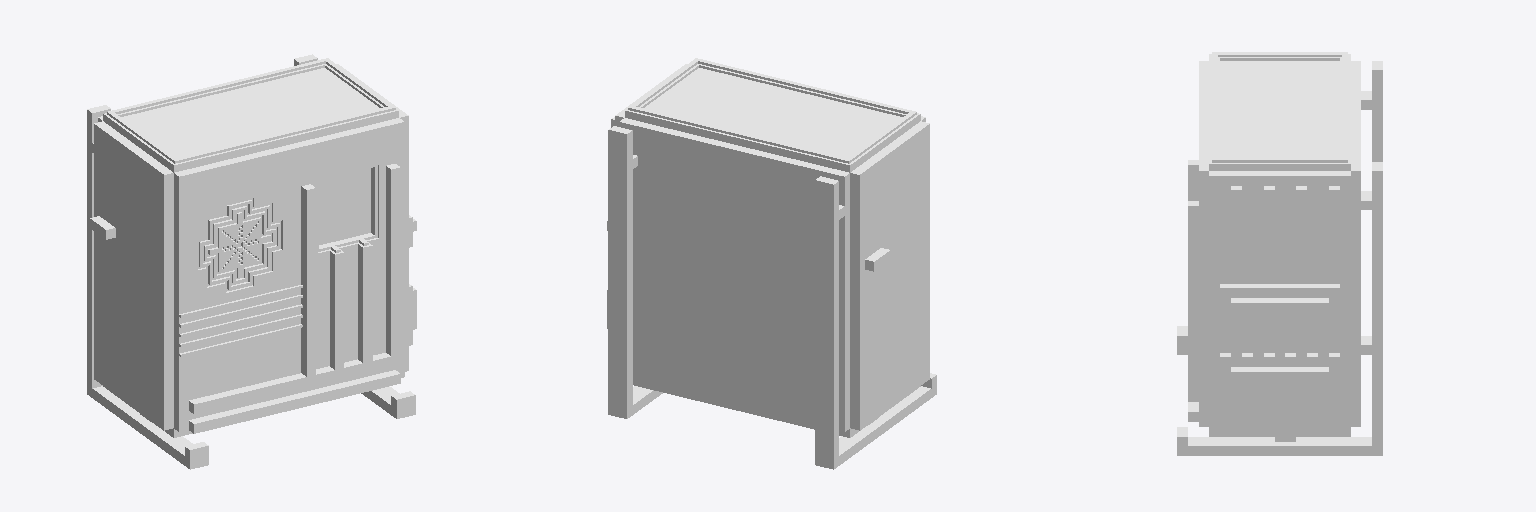
The model's file is air_conditioning-2-lod1.obj.
3 renders of one model, left to right at view 1: azimuth 30°, elevation 25°; view 2: azimuth 150°, elevation 25°; view 3: azimuth 270°, elevation 25°, orthographic.
Visible parts, largest first — view 1: lod1; view 2: lod1; view 3: lod1.
Boxes of the visible parts, x1=… form: lod1: x1=87, y1=54, x2=416, y2=469; lod1: x1=607, y1=58, x2=936, y2=469; lod1: x1=1177, y1=52, x2=1382, y2=455.
Bounding box in the file's own units: 11.6 × 12 × 7.6.